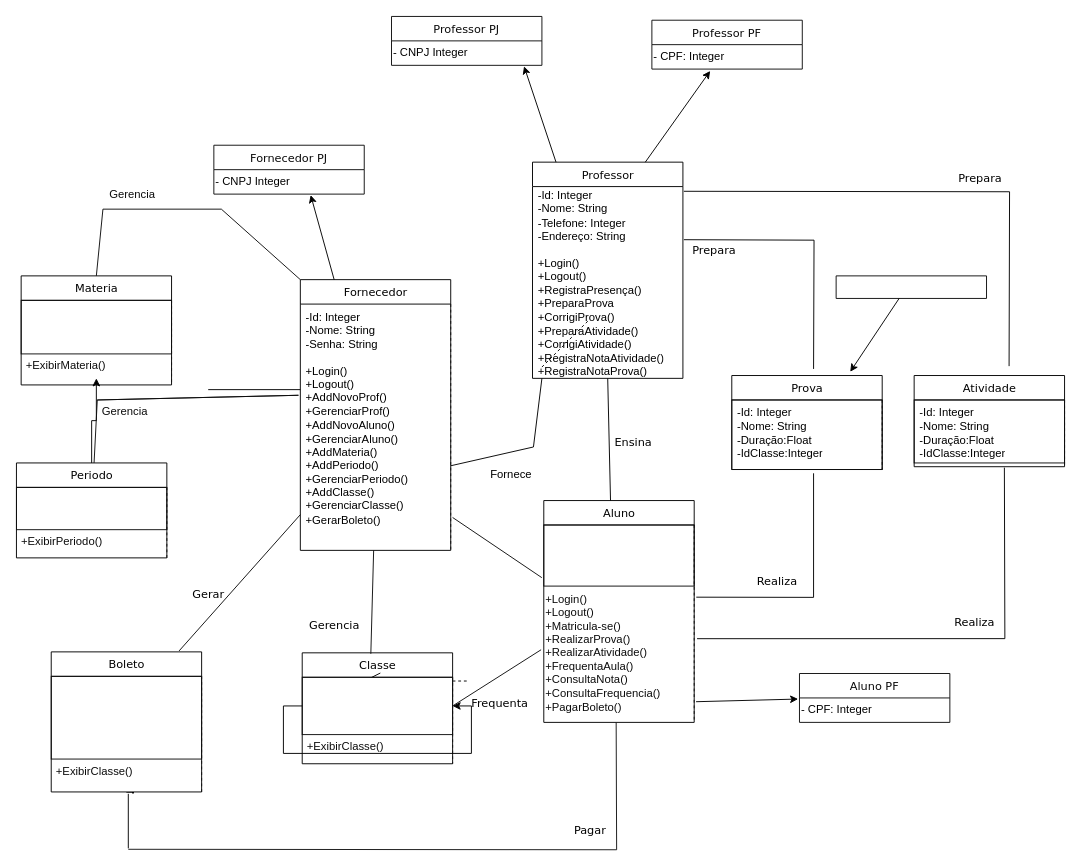
Image size: 1081x868. Some labels were removed from this diagram. The shapes that lost their labels are listed below. From the top down, each one's centre as x and y in pixels, then its label:
At (911,286): "ProvaRecuperação".
At (96,326): "-Id: Integer -Nome: String -IdClasse: Integer".
At (91,508): "-Id: Integer -Nome: String".
At (618,555): "-Id: Integer -Nome: String -Telefone: Integer -Endereço:String".
At (126,717): "-Id: Integer -Nome: String -IdAluno: Integer -Validade: Date -Valor:Float".
At (377,705): "-Id: Integer -Nome: String -IdPeriodo:Integer".
